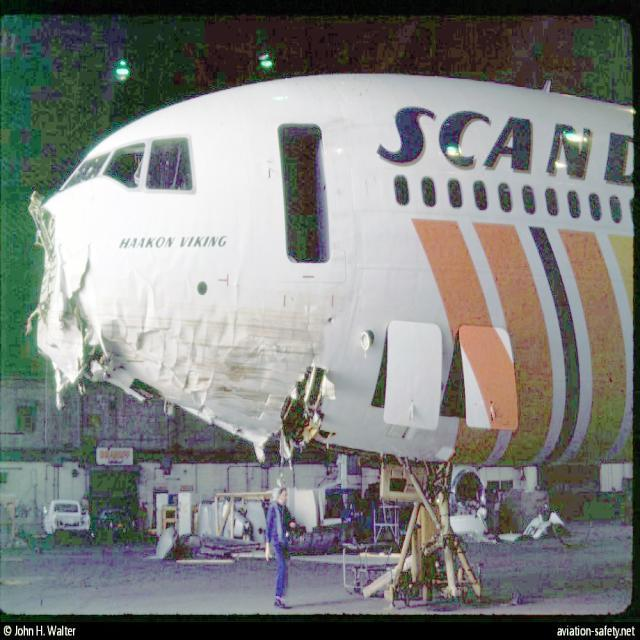crack: (67, 244, 99, 324), (301, 298, 322, 363)
dent: (115, 276, 158, 341)
